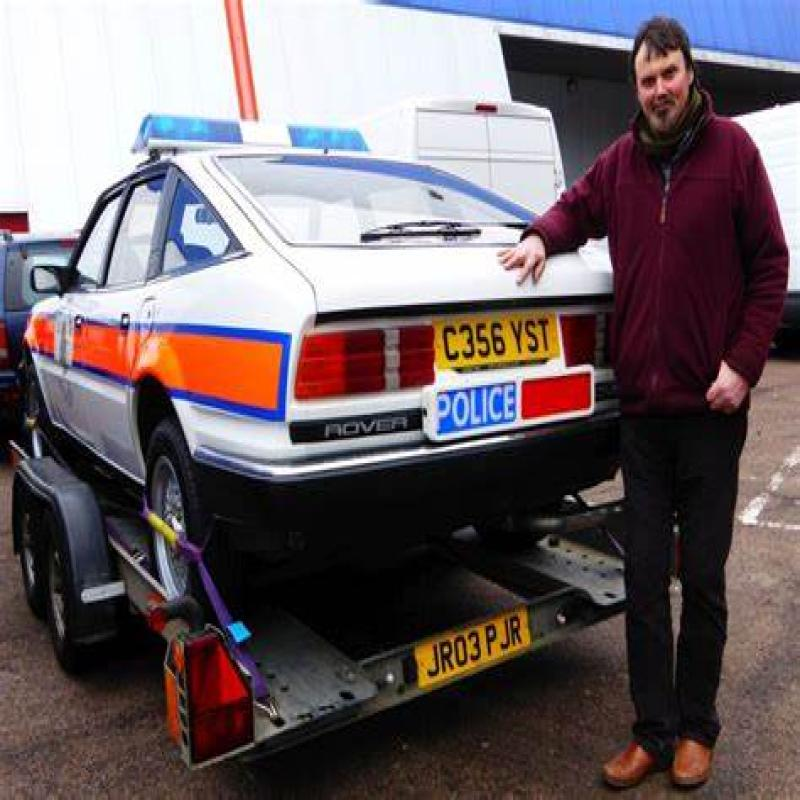AmbulanceSiren: (131, 86, 372, 156)
car: (49, 192, 619, 525)
